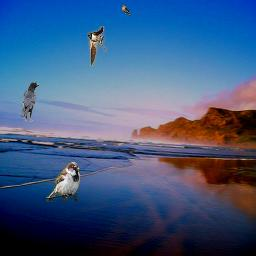Crow: (21, 82, 39, 122)
Sparrow: (46, 162, 80, 202), (121, 4, 131, 16)
Swallow: (87, 26, 110, 66)
